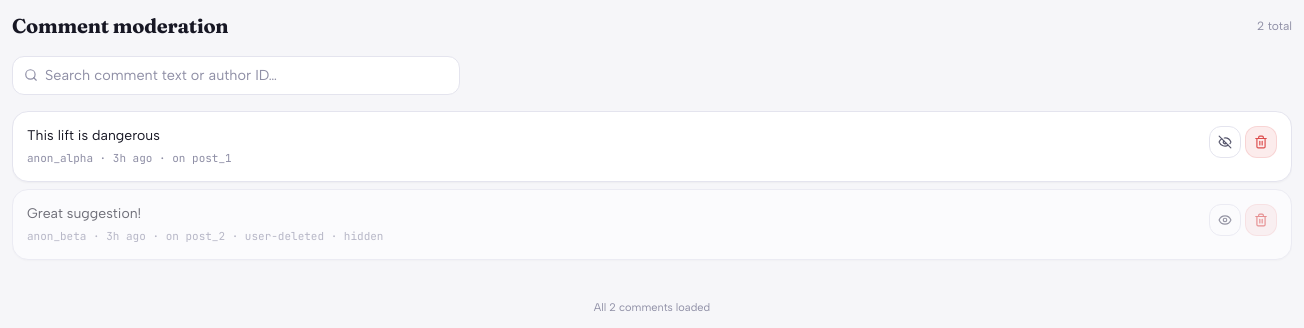
Test: CommentMod — search › filters by comment body text
Expected: the text "This lift is dangerous" is shown, x1=27 y1=126 x2=160 y2=144
Type "dangerous" into the field with placeholder "Search comment text or author ID…" at {"x": 236, "y": 75}, box x1=12 y1=56 x2=460 y2=94
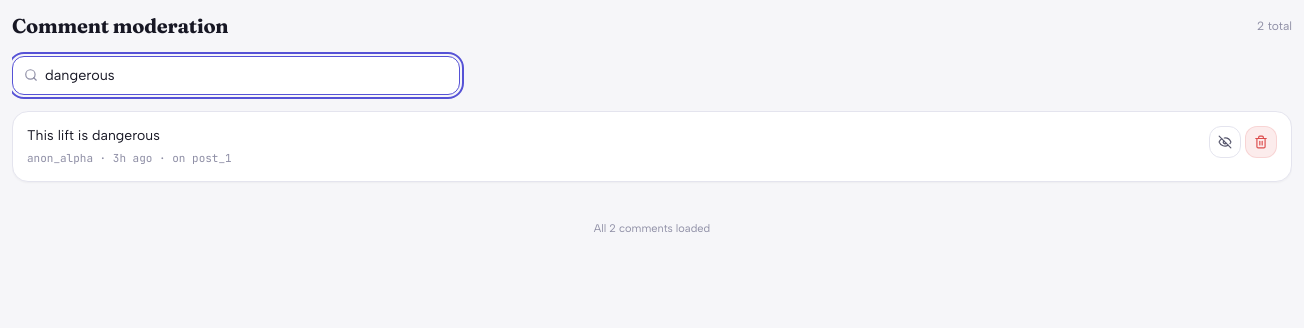
Expected: the text "This lift is dangerous" is shown, x1=27 y1=126 x2=160 y2=144
Now the text "Great suggestion!" is gone
